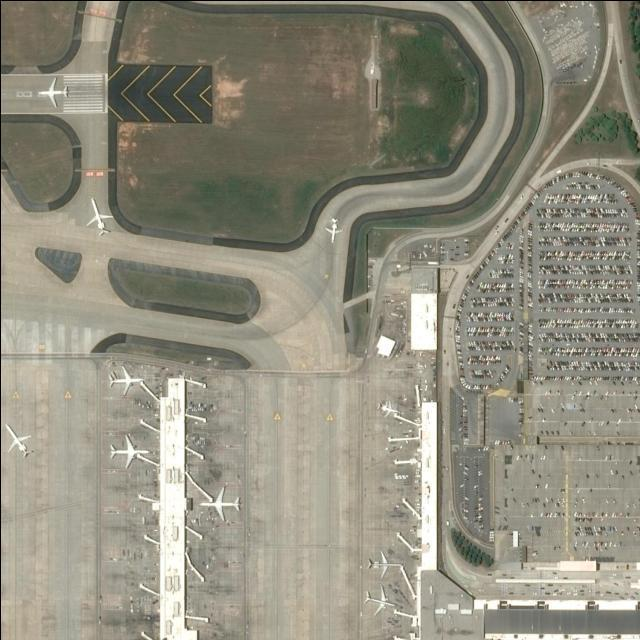Aircraft: (200, 487, 242, 523), (107, 433, 150, 467), (84, 196, 114, 233), (107, 367, 145, 395), (5, 421, 35, 456), (365, 550, 403, 577), (36, 77, 71, 106), (362, 586, 396, 615), (323, 217, 344, 241), (376, 400, 398, 416)
